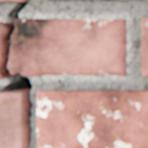brick: (38, 90, 147, 147), (0, 92, 28, 147), (142, 18, 147, 75), (0, 0, 29, 1)
broken_brick: (9, 19, 127, 76), (0, 22, 9, 64), (0, 72, 7, 78)
crack: (0, 2, 33, 147)
